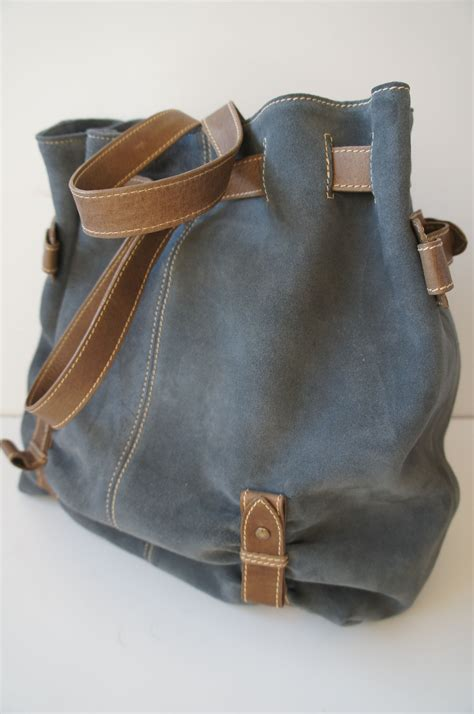gamuza: (17, 82, 460, 628)
